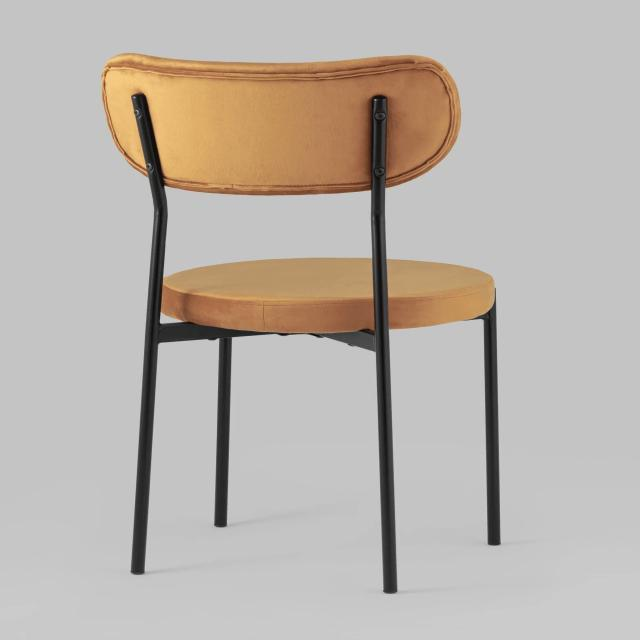chair: (90, 49, 503, 596), (109, 43, 511, 344)
